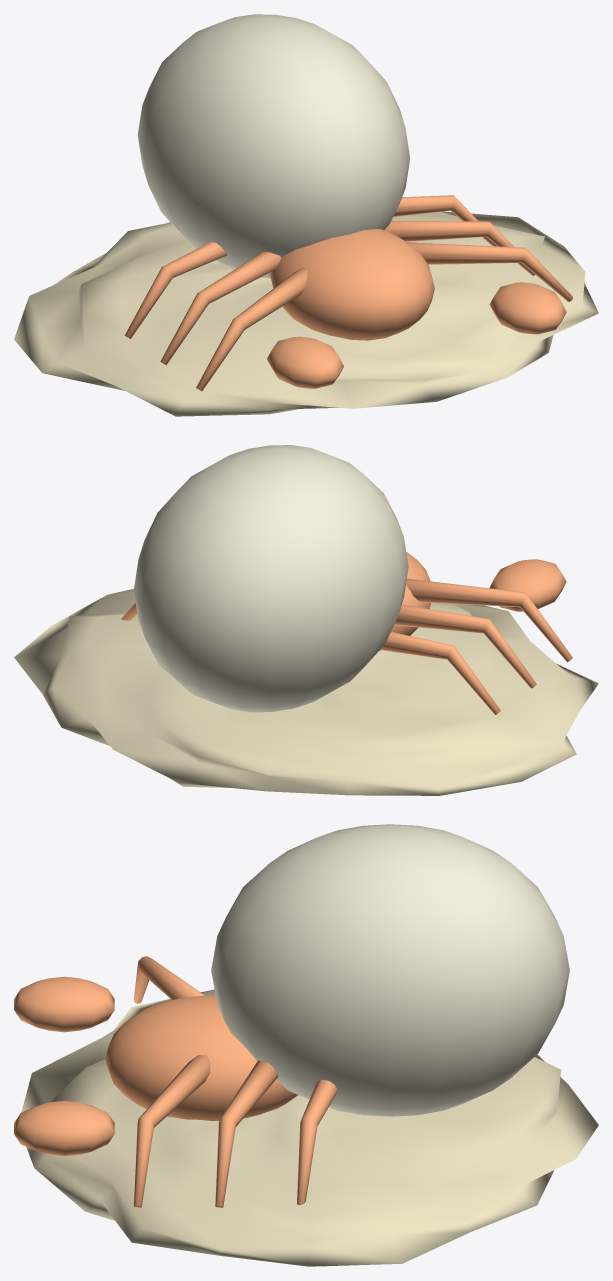
File: underwater-reef-worlds-hermit-crab-176540c1__7034.glb
3 renders of one model, top to bottom at view 1: azimuth 30°, elevation 25°; view 2: azimuth 150°, elevation 25°; view 3: azimuth 270°, elevation 25°, orthographic. The views are drawn at different scales.
Visible parts, largest first — view 1: hermit-crab; view 2: hermit-crab; view 3: hermit-crab.
Part boxes in pixels (x1=…): hermit-crab: x1=14, y1=14, x2=598, y2=416; hermit-crab: x1=14, y1=445, x2=598, y2=795; hermit-crab: x1=14, y1=824, x2=598, y2=1266.
Bounding box in the file's own units: 0.8434 × 0.4 × 0.7175.
